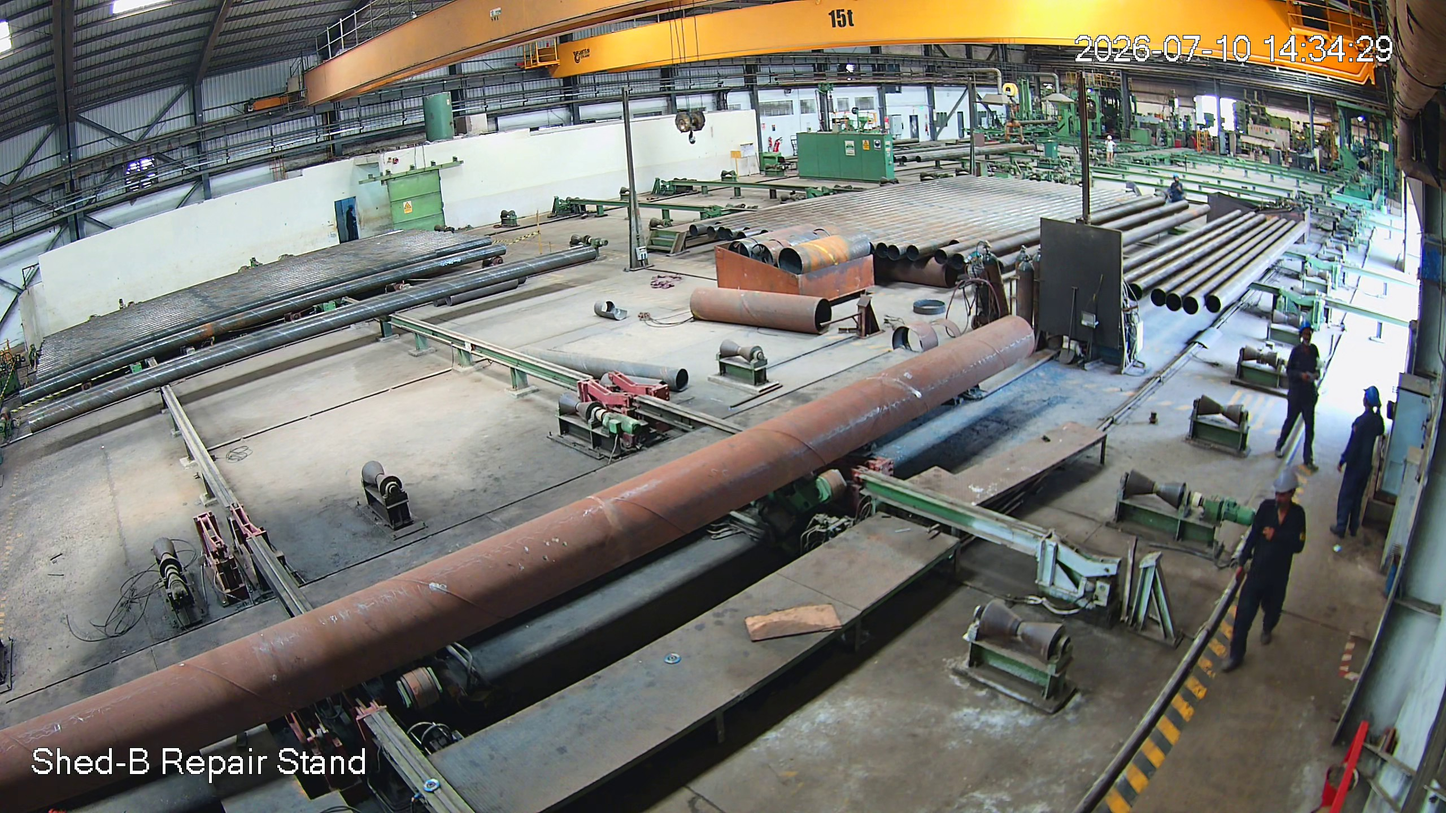Helmet: (1265, 465, 1301, 524), (1356, 384, 1386, 433), (1294, 320, 1315, 356)
Person: (1228, 472, 1316, 675), (1330, 387, 1393, 554), (1280, 323, 1323, 468)
